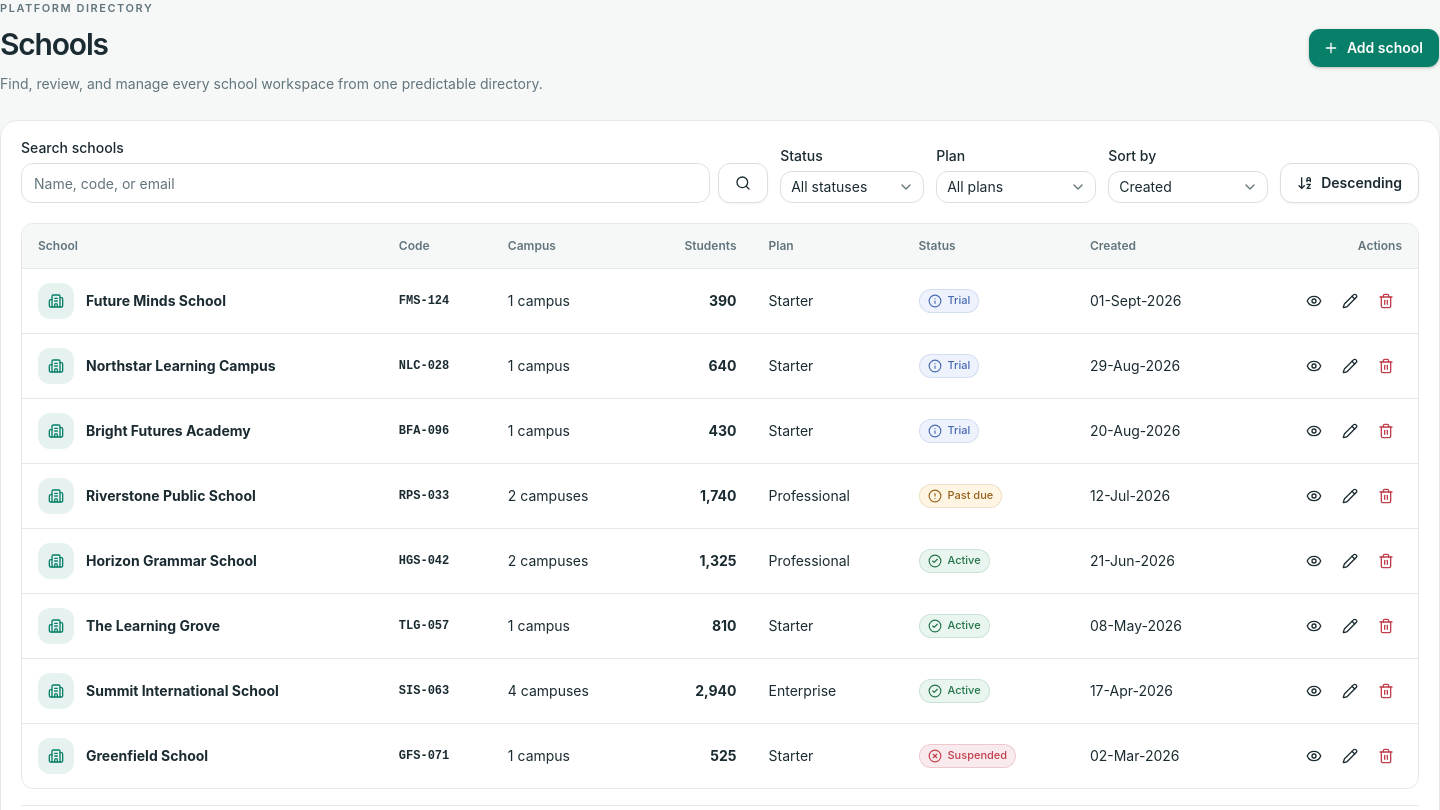
SchoolsList › searches and filters without losing predictable table state
This screenshot has width=1440, height=810.
expect the text "Future Minds School" is shown: met, box left=86, top=291, right=226, bottom=311
Type "Crescent" into the field labelled "Search schools".
click(366, 184); type("Crescent")  # box left=21, top=164, right=710, bottom=204
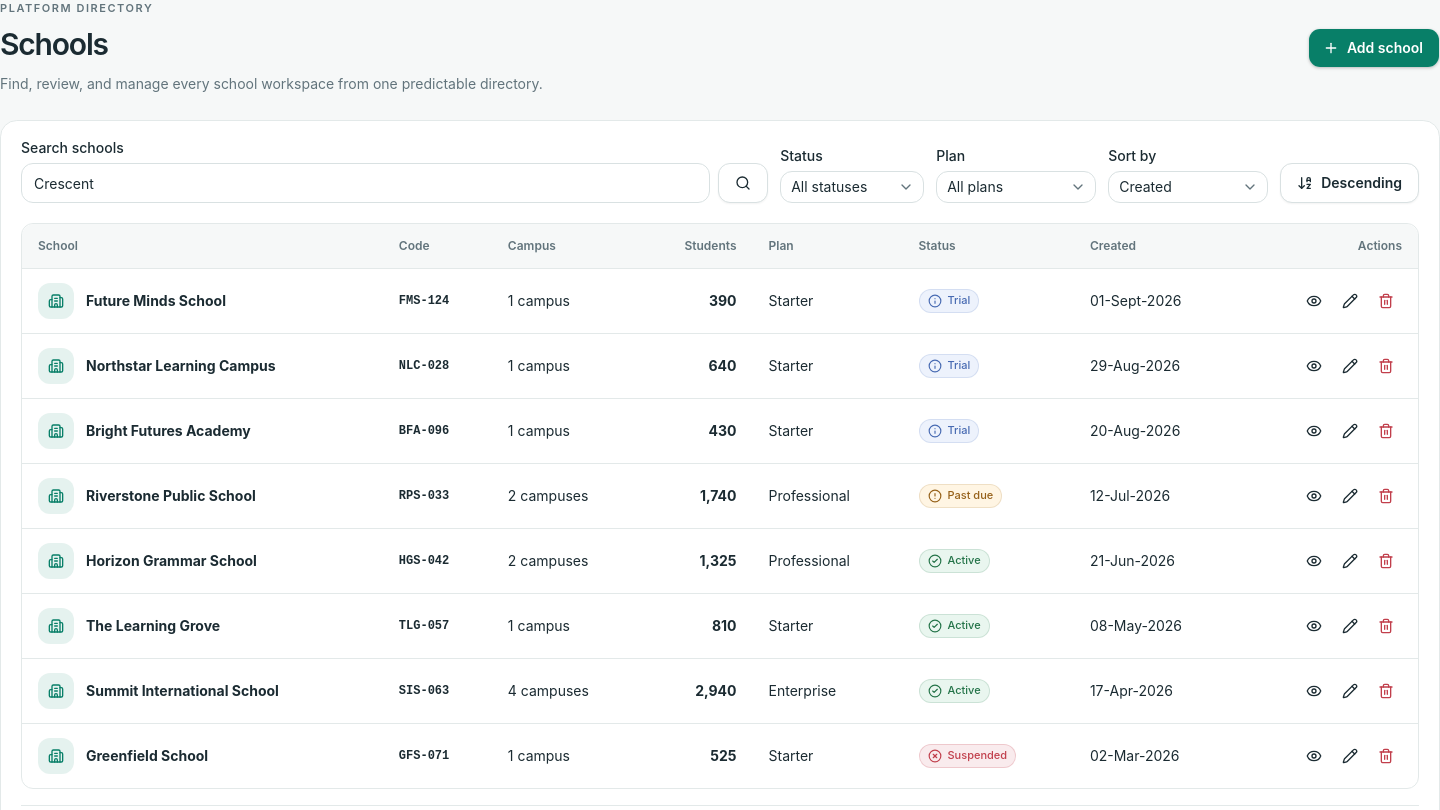
Click the button named "Search schools".
click(743, 184)  # box left=718, top=164, right=768, bottom=204
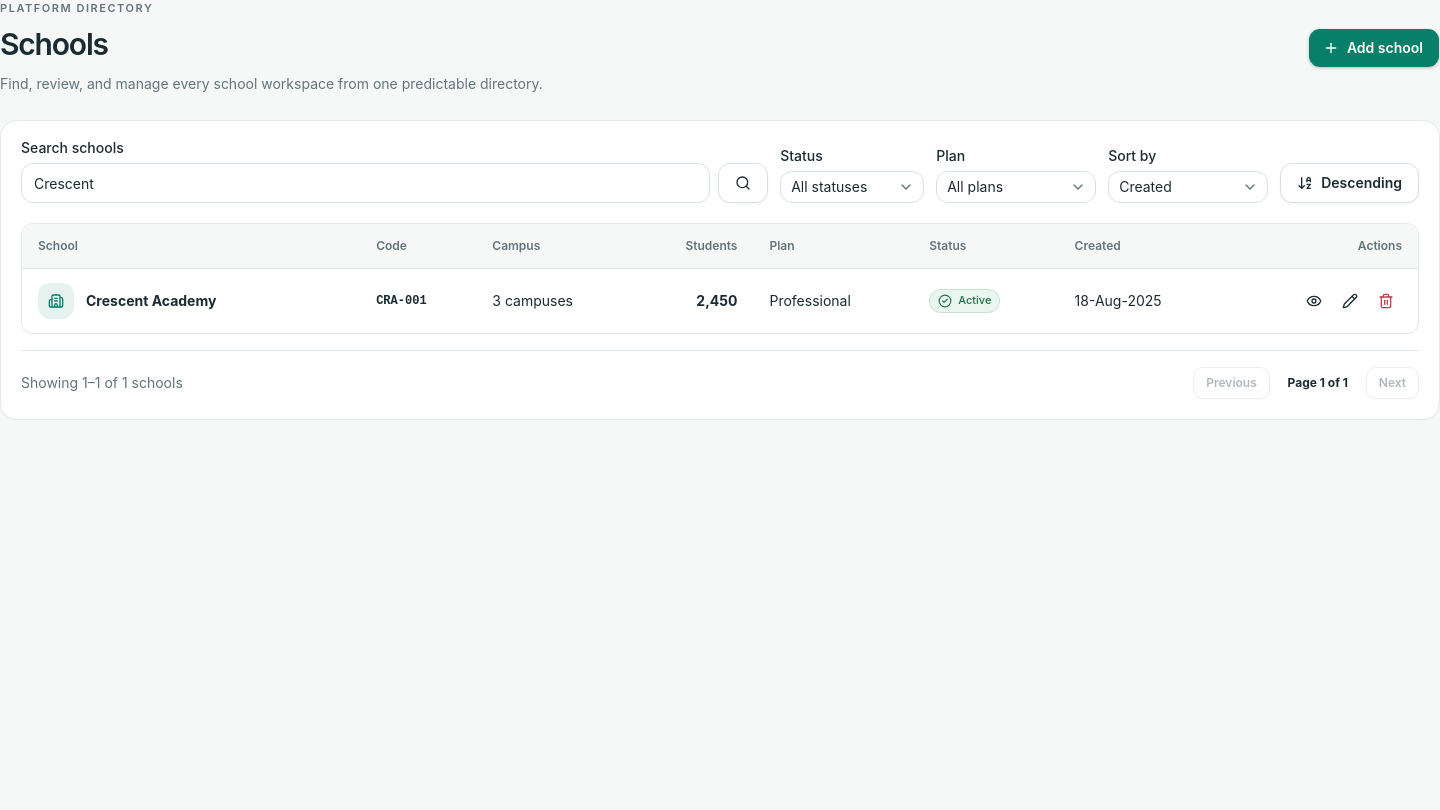
expect the text "Crescent Academy" is shown: met, box left=86, top=291, right=216, bottom=311
expect the text "Future Minds School" is gone: met
Select "Suspended" in the dropdown labelled "Status" at [852, 188], box left=780, top=172, right=924, bottom=204
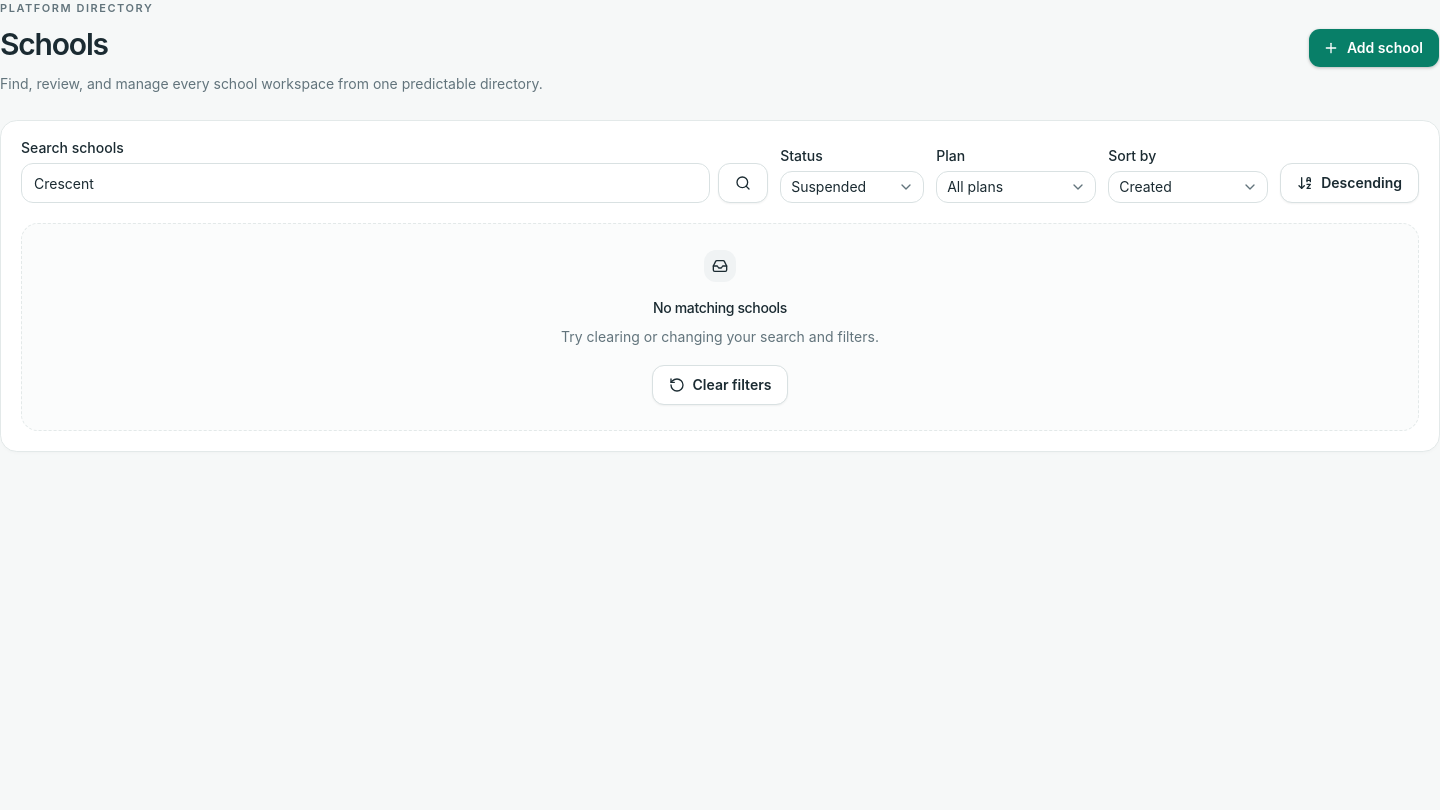
expect the text "No matching schools" is shown: met, box left=653, top=298, right=787, bottom=318
Click the button "Clear filters".
click(720, 385)  # box left=652, top=365, right=788, bottom=405
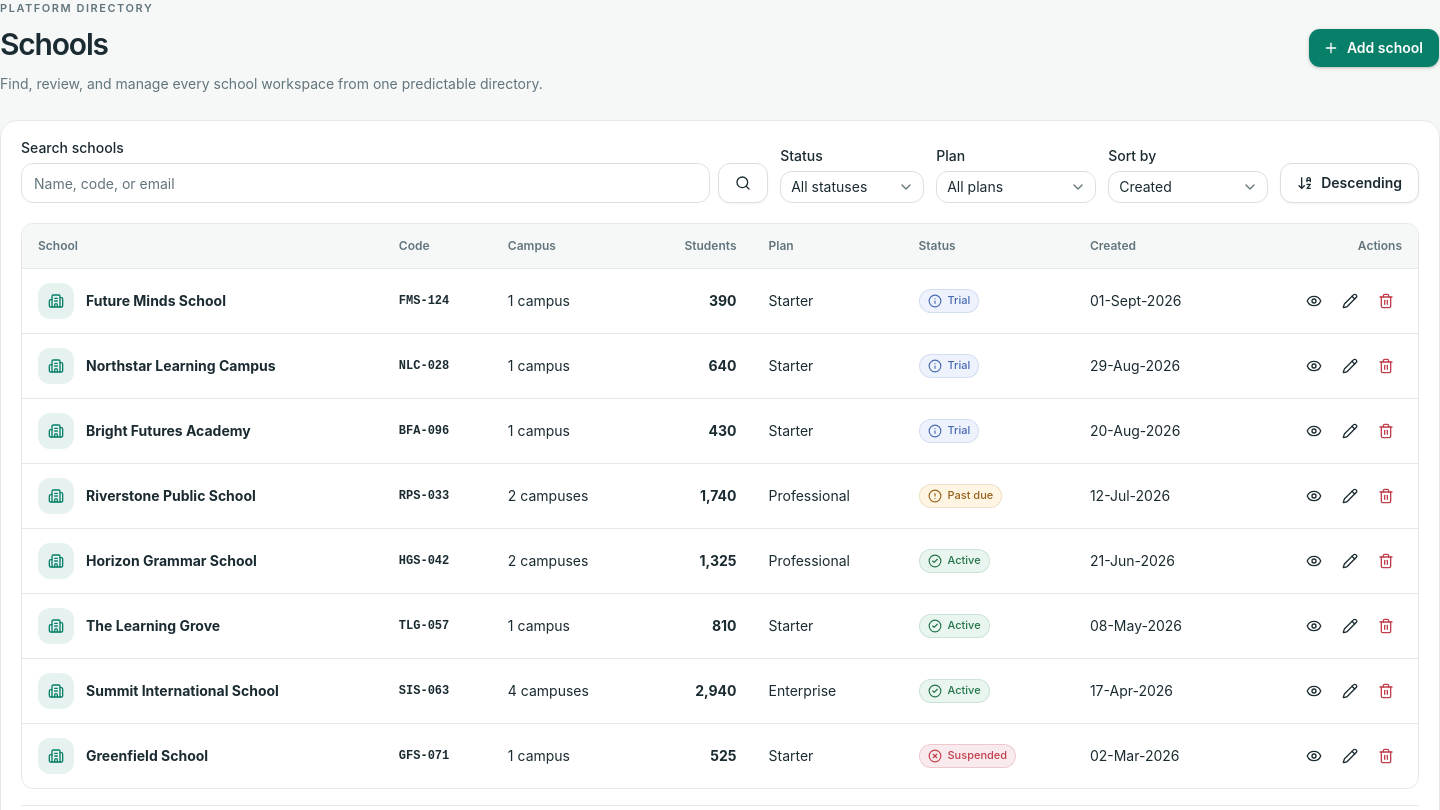
expect the text "Future Minds School" is shown: met, box left=86, top=291, right=226, bottom=311
